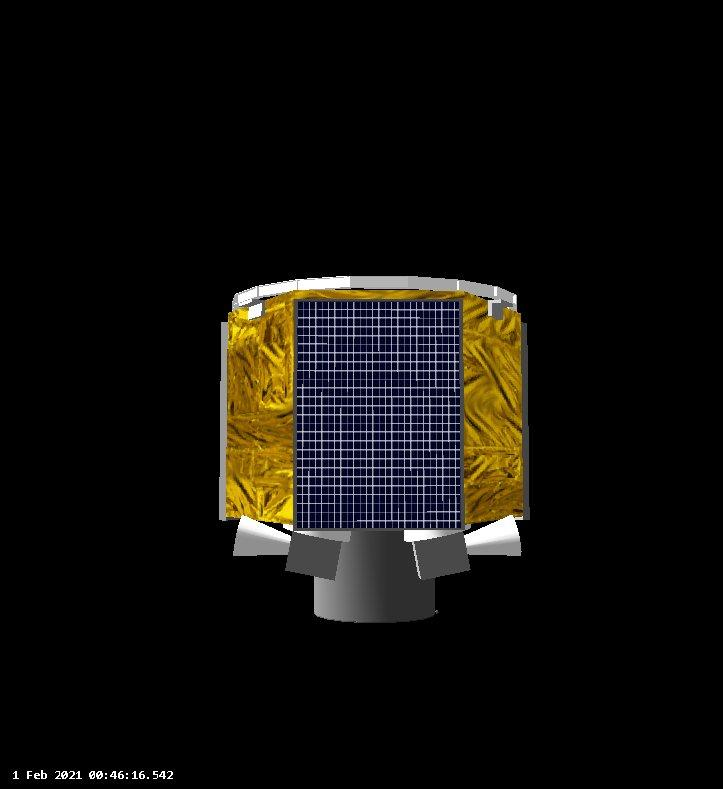body: (221, 281, 534, 525)
solar: (287, 294, 466, 536), (216, 317, 231, 523)
thruster: (311, 516, 439, 625), (229, 511, 304, 569), (457, 509, 526, 560)
